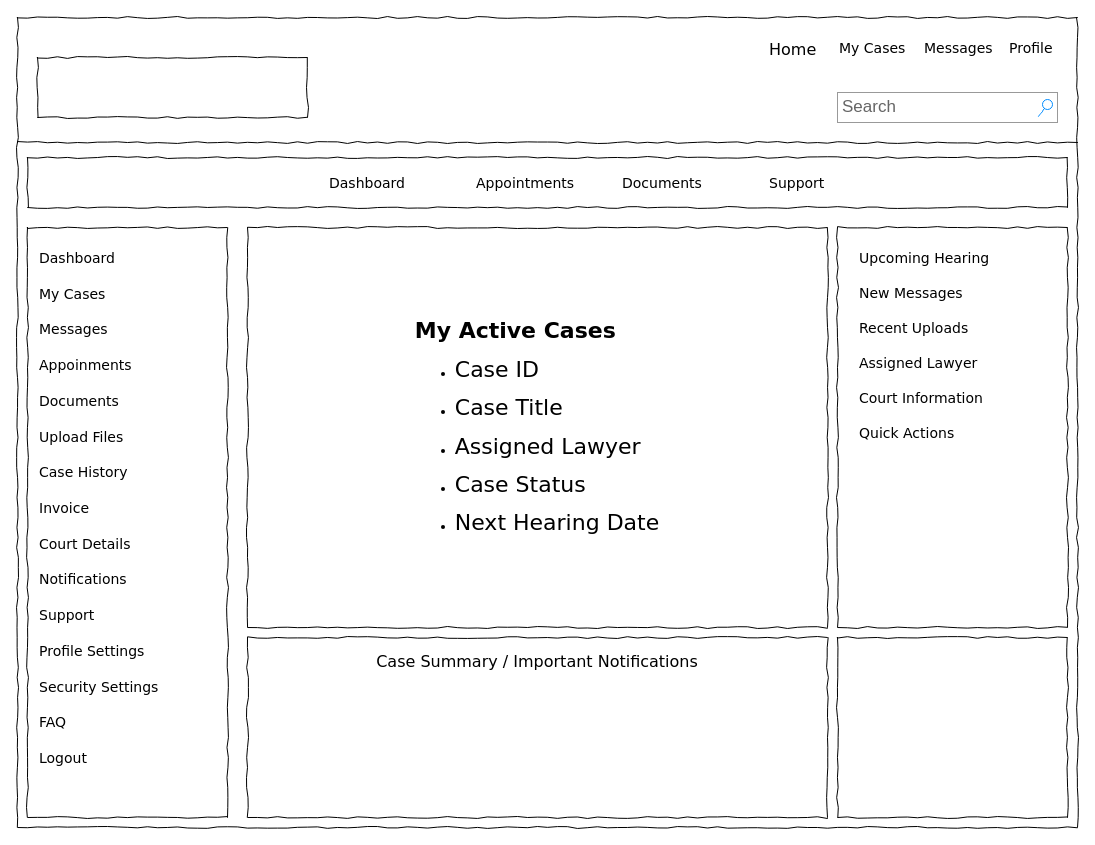
Image size: 1095x845. Some labels were removed from this diagram. The centre of each missing label's shape, as x and y in pixels:
ABC Law Firm – Client Portal: point (172, 87)
Useful Links Court Website Firm Contact Emergency Support Legal Resources: point (952, 727)
